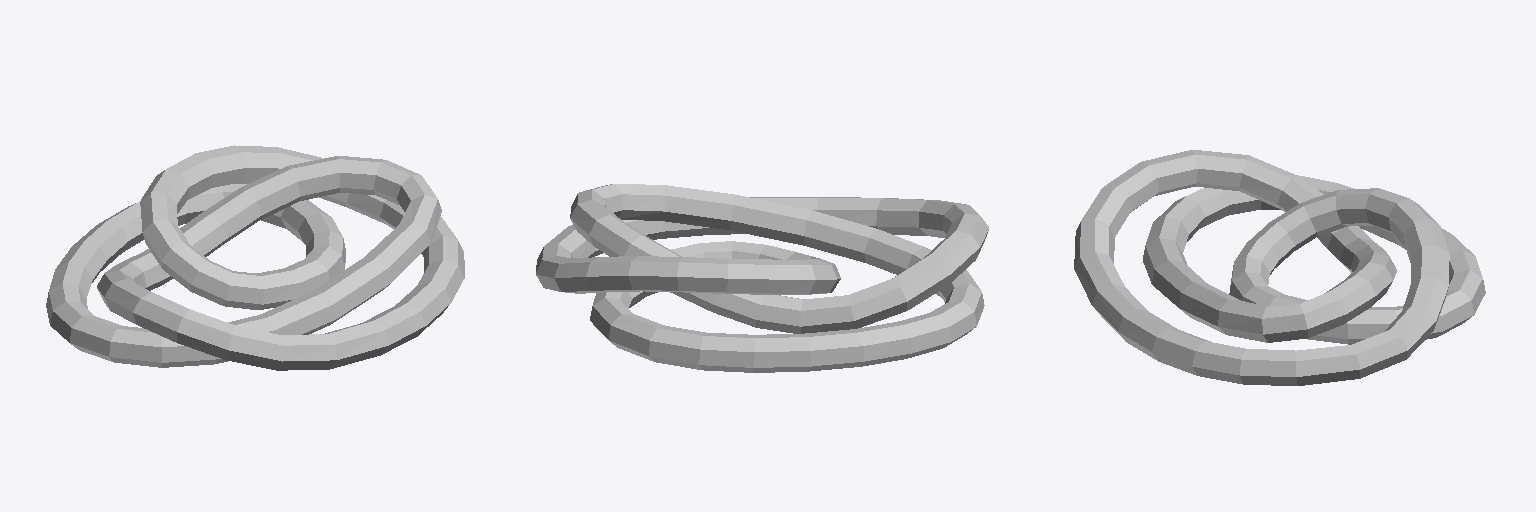
File: rope_bundle_B.obj
The picture shows the model from 3 angles: view 1: azimuth 30°, elevation 25°; view 2: azimuth 150°, elevation 25°; view 3: azimuth 270°, elevation 25°; orthographic projection.
Parts seen in each view (by area): view 1: rope_bundle_B; view 2: rope_bundle_B; view 3: rope_bundle_B.
Part boxes in pixels (x1,y1,x2,y2): rope_bundle_B: (46,145,464,370); rope_bundle_B: (536,184,988,372); rope_bundle_B: (1074,150,1485,385).
Bounding box in the file's own units: 1.06 × 0.2329 × 0.954.